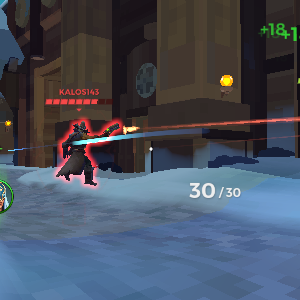model: (50, 111, 114, 190)
